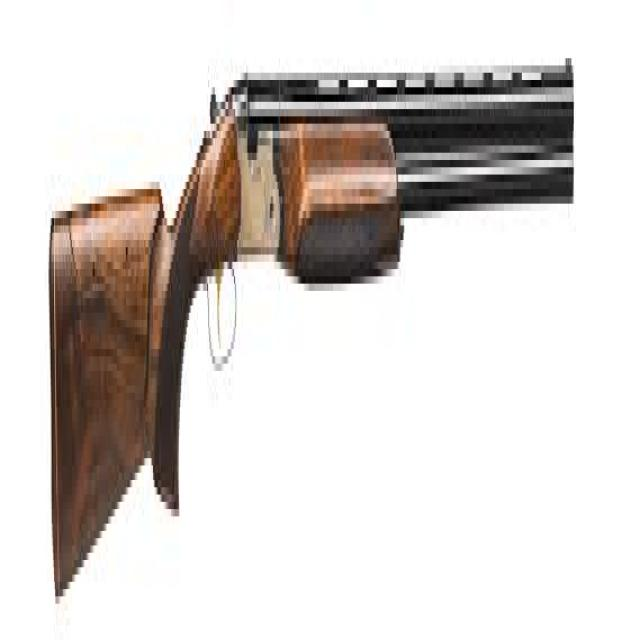rifle: (48, 1, 586, 633)
